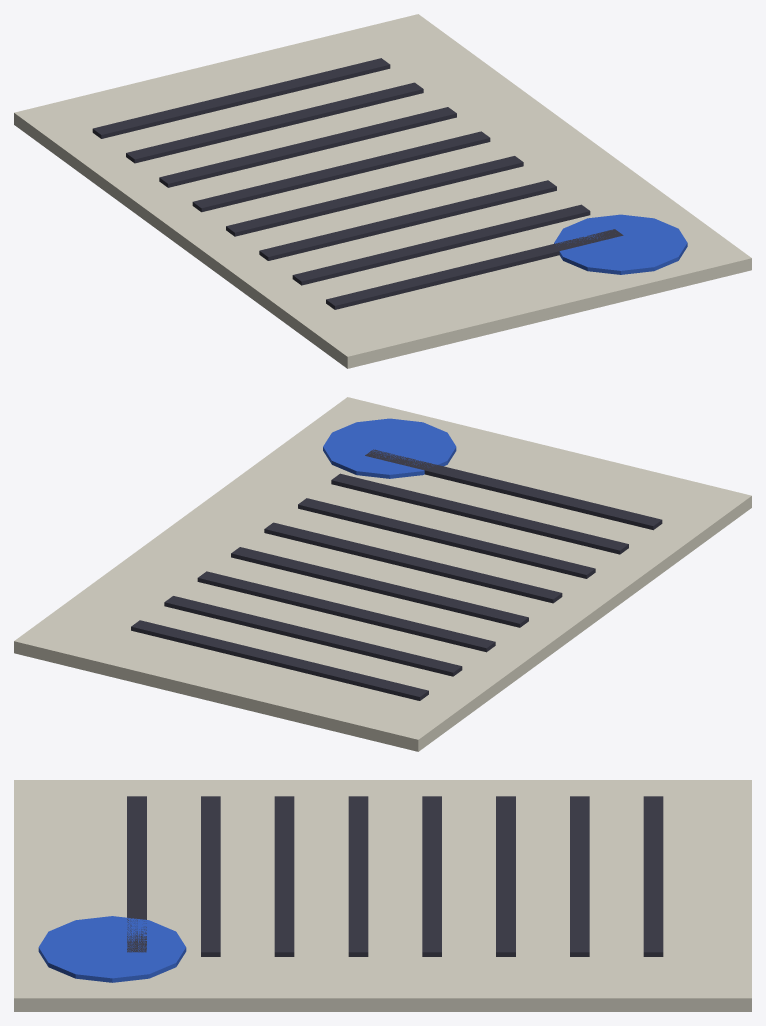
File: passenger_list.glb
3 views of the same model, one above another, from view 1: azimuth 30°, elevation 25°; view 2: azimuth 150°, elevation 25°; view 3: azimuth 270°, elevation 25° (orthographic). The views are drawn at different scales.
Parts seen in each view (by area): view 1: sheet_passenger_paper, line_passenger_ink (×8), stamp_passenger_stamp; view 2: sheet_passenger_paper, line_passenger_ink (×8), stamp_passenger_stamp; view 3: sheet_passenger_paper, line_passenger_ink (×8), stamp_passenger_stamp.
Boxes of the visible parts, x1=… form: sheet_passenger_paper: x1=14, y1=14, x2=751, y2=368; line_passenger_ink (×8): x1=92, y1=58, x2=623, y2=309; stamp_passenger_stamp: x1=554, y1=214, x2=687, y2=274; sheet_passenger_paper: x1=14, y1=397, x2=751, y2=751; line_passenger_ink (×8): x1=131, y1=449, x2=662, y2=700; stamp_passenger_stamp: x1=323, y1=418, x2=456, y2=478; sheet_passenger_paper: x1=14, y1=780, x2=751, y2=1011; line_passenger_ink (×8): x1=127, y1=796, x2=663, y2=956; stamp_passenger_stamp: x1=38, y1=916, x2=186, y2=982.
Bounding box in the file's own units: 0.21 × 0.008 × 0.3.
